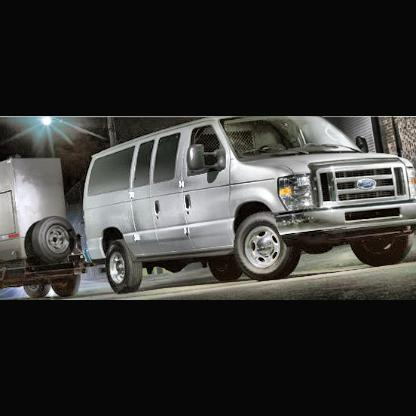Ford E-Series Wagon Van 2012: (80, 117, 416, 298)
